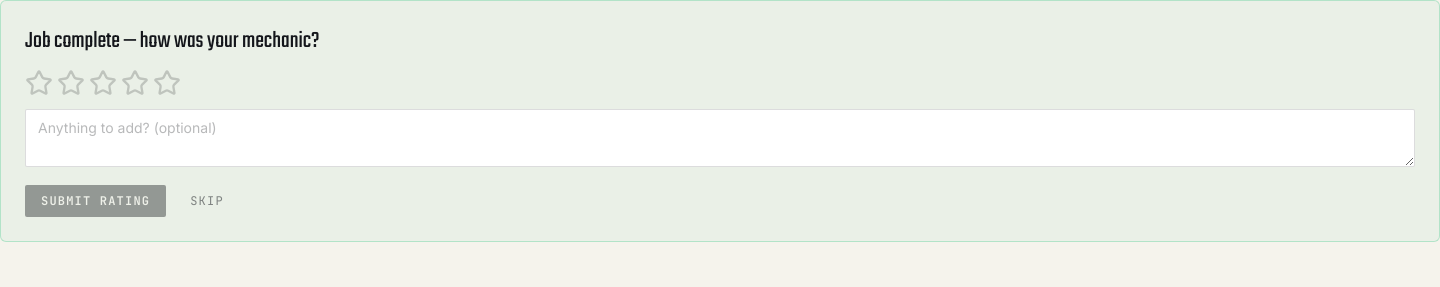
RatingForm › shows an error if submitting fails
Click the radio button named "5 stars" at coordinates (167, 83), box [153, 69, 181, 97]
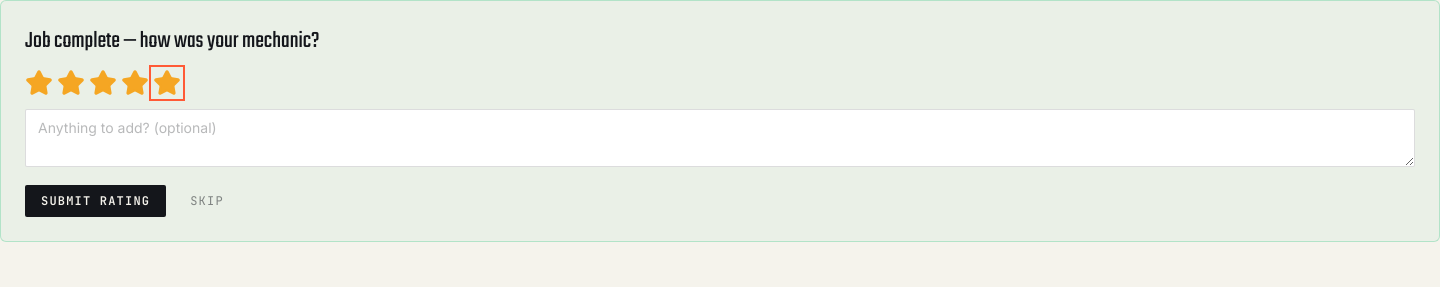
Click the button "Submit rating" at coordinates (96, 201), box [25, 185, 166, 217]
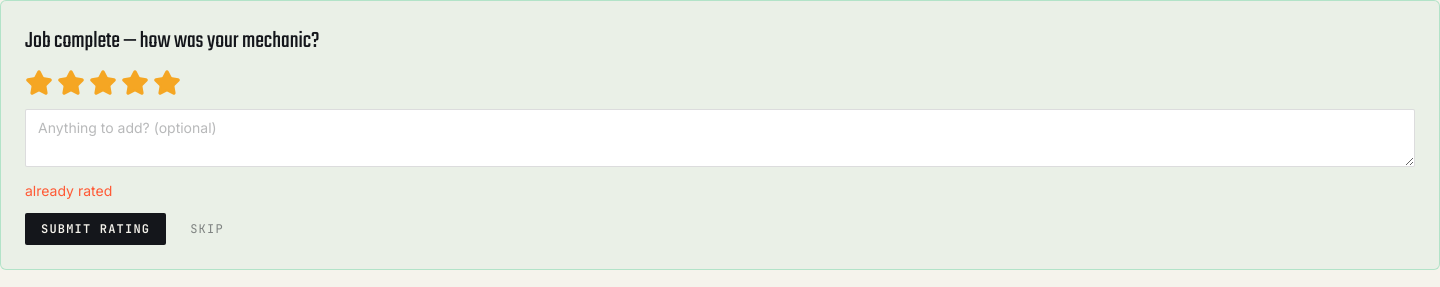
Result: the text "already rated" is shown at [25, 182, 112, 199]
